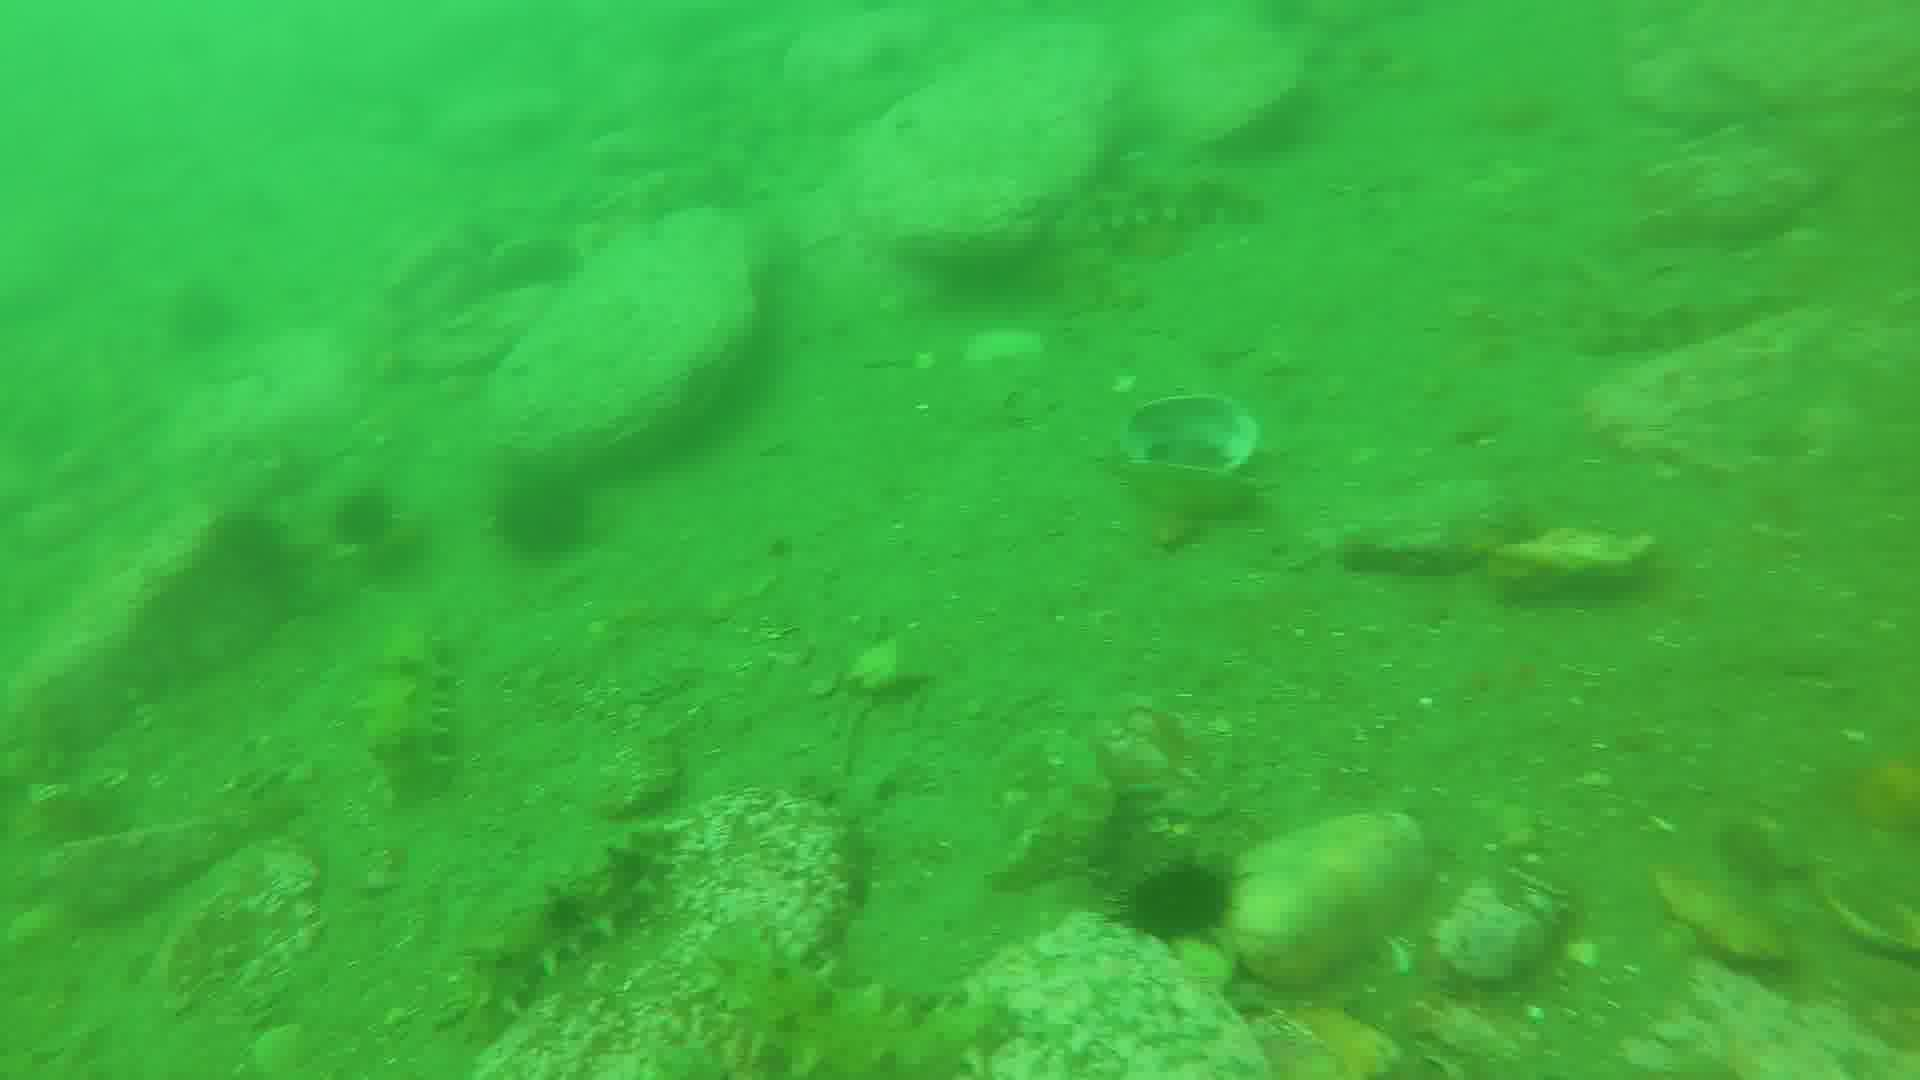echinus: (1112, 851, 1242, 944), (492, 483, 592, 562)
holothurian: (458, 824, 665, 1048), (695, 936, 1011, 1080), (1063, 166, 1280, 233), (371, 632, 451, 796)
scallop: (1124, 394, 1270, 527)
